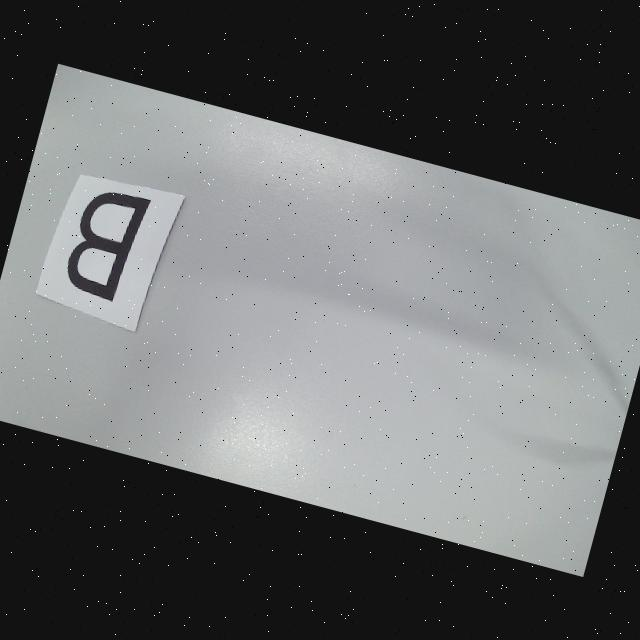FAKE: (61, 182, 150, 304)
